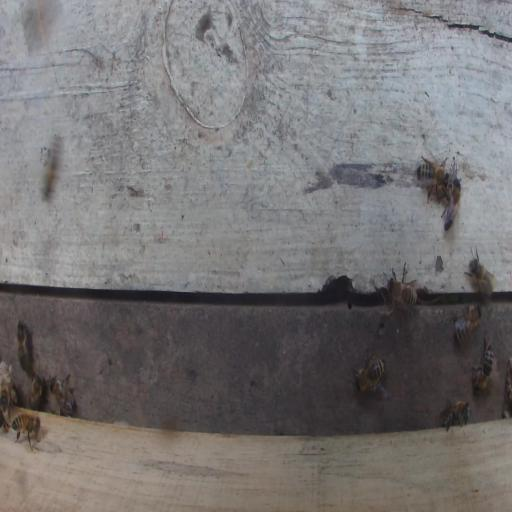bee: (416, 144, 450, 206), (464, 245, 497, 297), (389, 262, 419, 310), (41, 135, 62, 202), (452, 302, 482, 346), (10, 409, 43, 449), (353, 353, 386, 393), (471, 335, 493, 392), (441, 175, 462, 230), (50, 374, 74, 416), (441, 400, 470, 430), (16, 319, 31, 376), (29, 372, 43, 410), (0, 378, 10, 425)
